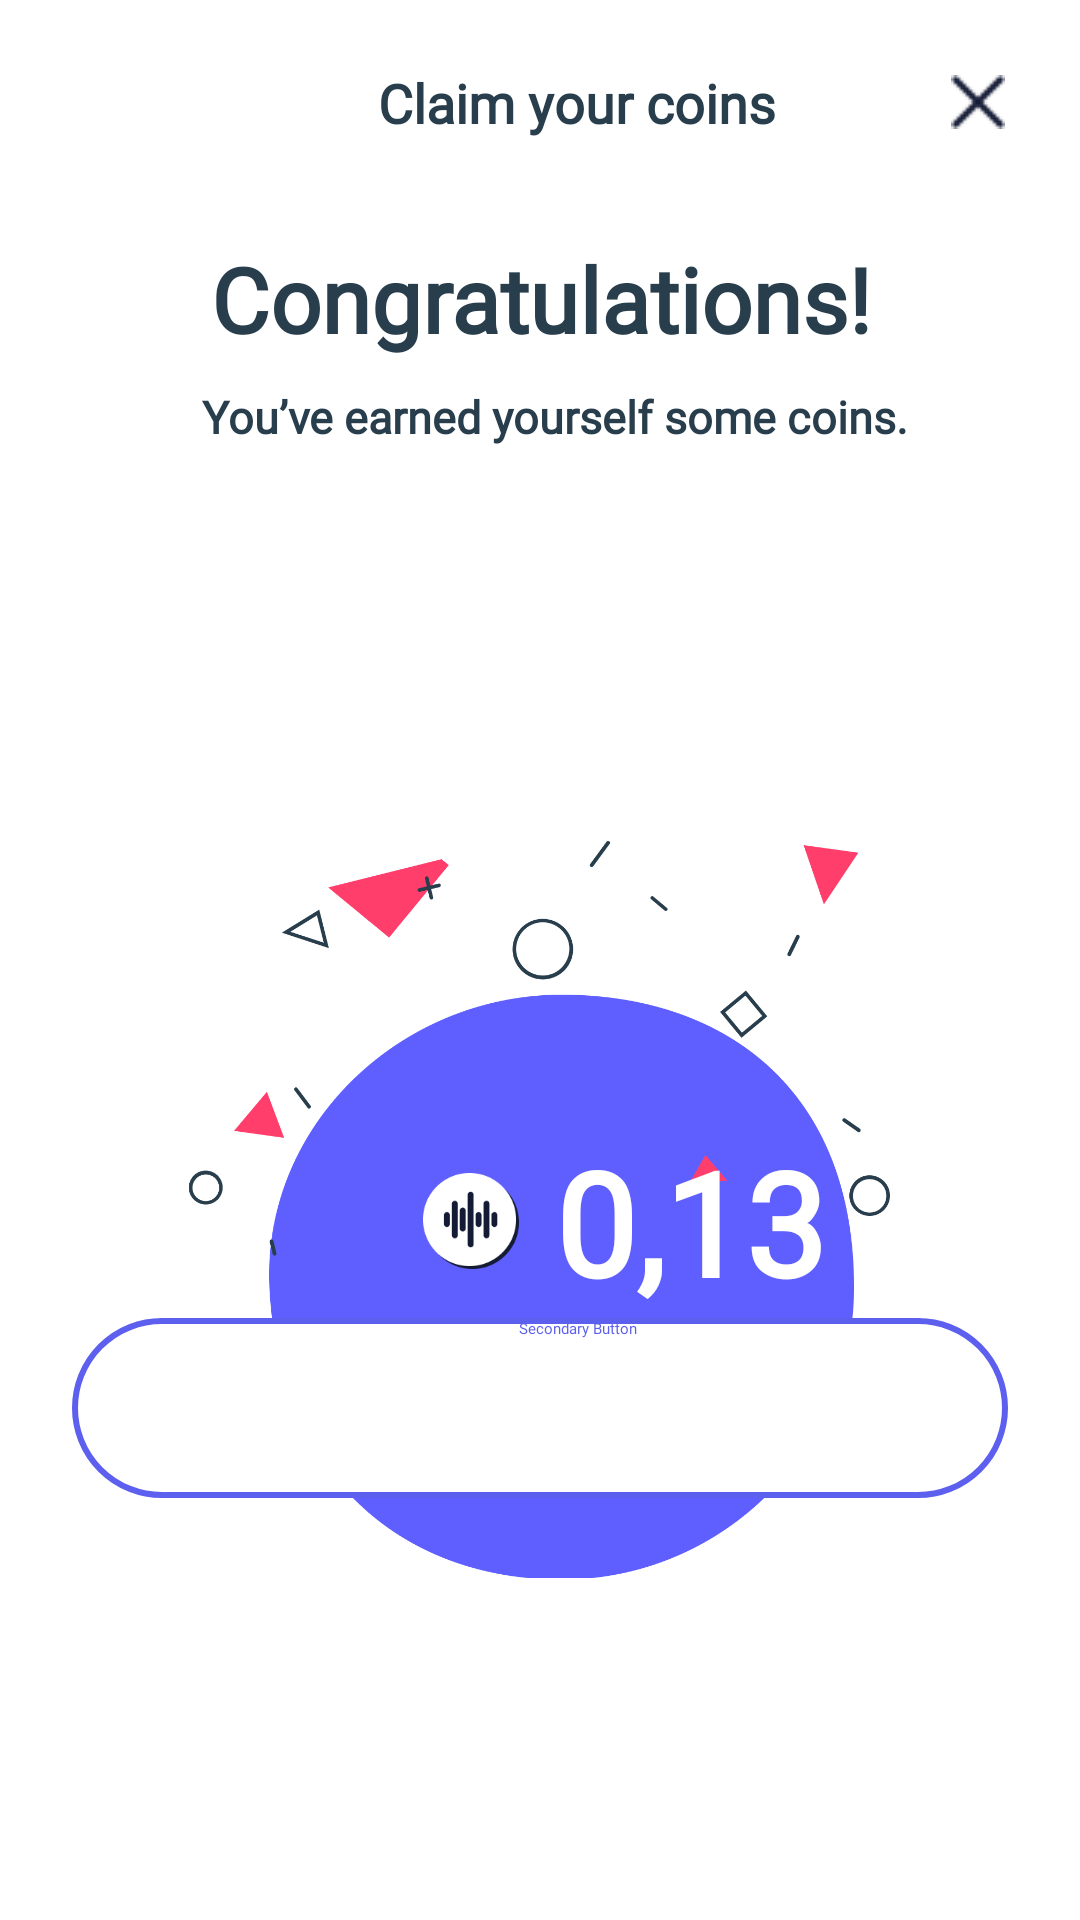

Icons on this 1080*1920 Android screen, each with the point to tap as point (x, y):
cross: point (978, 102)
noisecoin: point (471, 1221)
